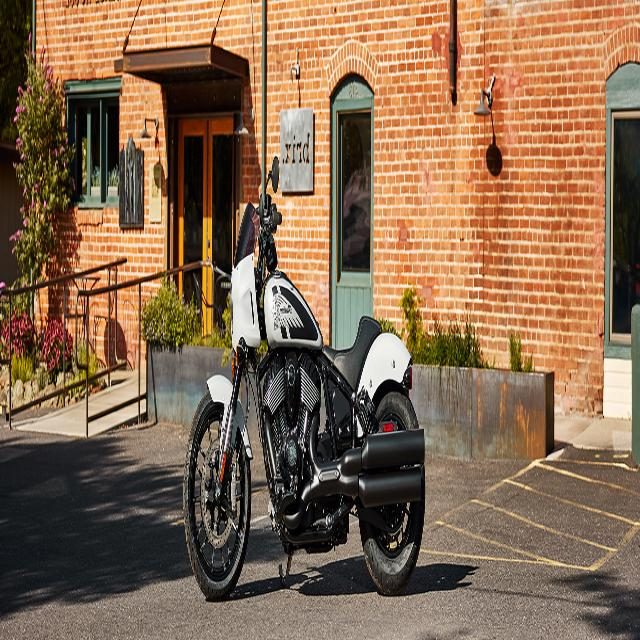motorcycle: (184, 156, 425, 600)
